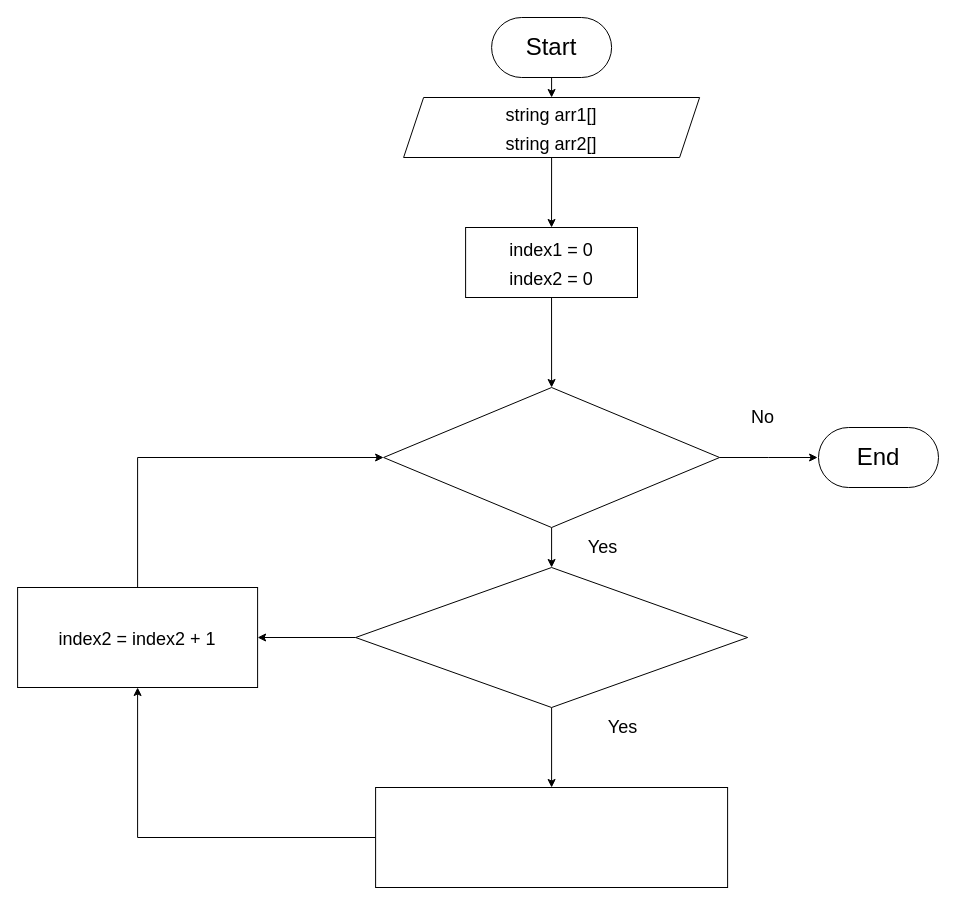
The diagram is 956 pixels wide and 905 high, and some of its shapes have lost their labels. Each missing label, with the box of its shape:
arr1[index2].Length <= 3: (355, 566, 748, 708)
arr2[index1] = arr1[index2] index1 = index1 + 1;: (375, 786, 728, 888)
index2 > arr1.Length(): (383, 386, 720, 528)
